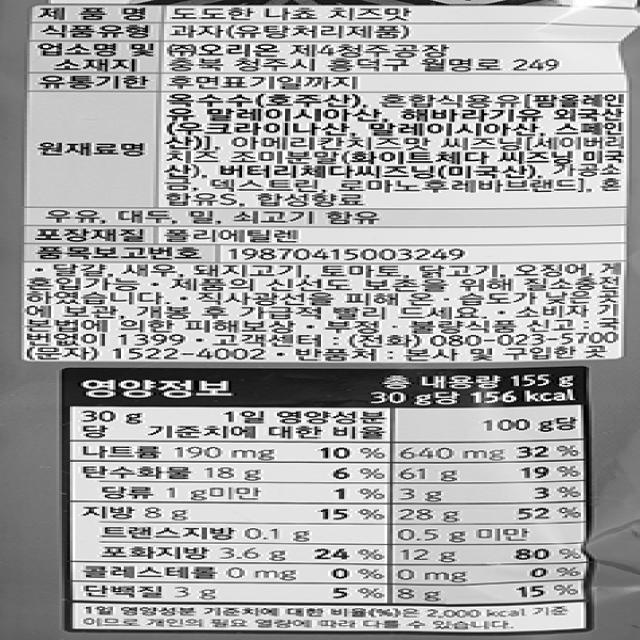Nutrition Label: (27, 360, 632, 640)
